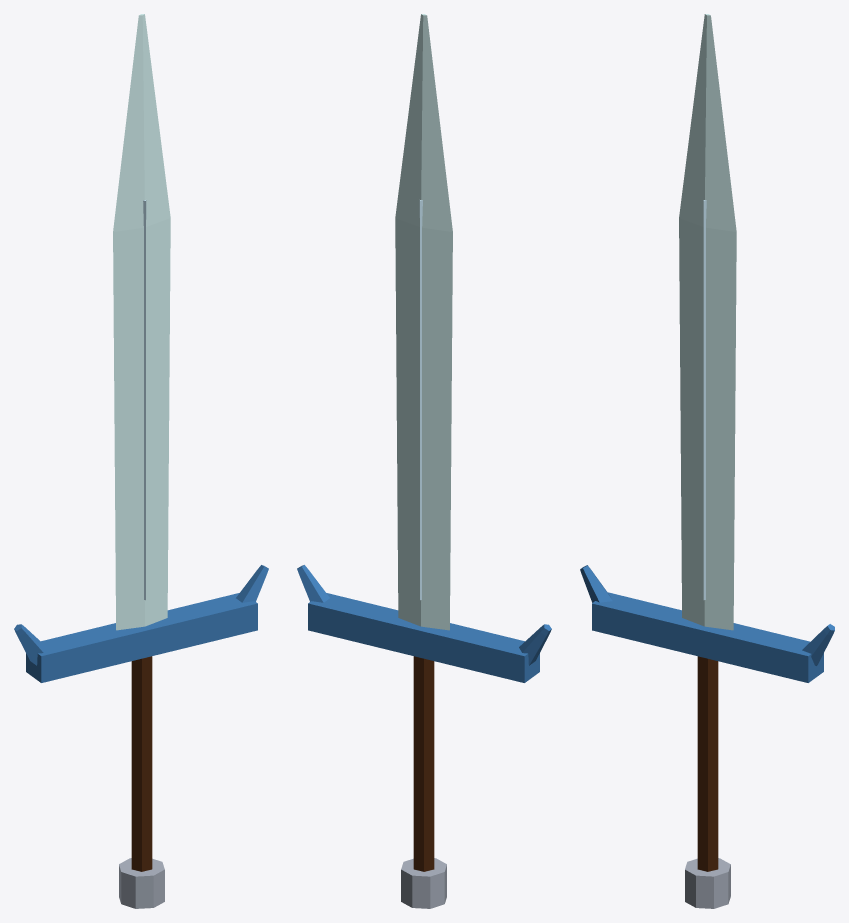
File: wpn_melee_2h_7.glb
3 renders of one model, left to right at view 1: azimuth 30°, elevation 25°; view 2: azimuth 150°, elevation 25°; view 3: azimuth 330°, elevation 25°, orthographic.
Visible parts, largest first — view 1: wpn_melee_2h_7; view 2: wpn_melee_2h_7; view 3: wpn_melee_2h_7.
Part boxes in pixels (left/top/right/bottom): wpn_melee_2h_7: left=14, top=14, right=268, bottom=908; wpn_melee_2h_7: left=297, top=14, right=551, bottom=908; wpn_melee_2h_7: left=580, top=14, right=834, bottom=908.
Bounding box in the file's own units: 0.492 × 1.64 × 0.08.
